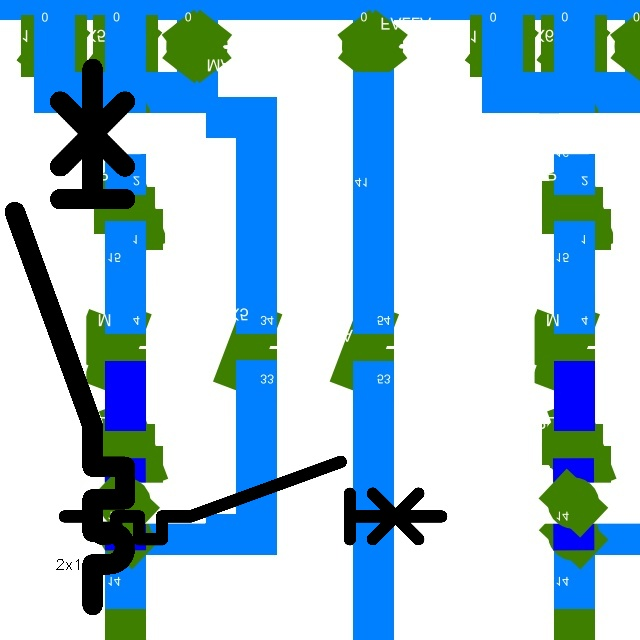interruptor_termomagnetico: (1, 55, 139, 619), (55, 452, 451, 549)
